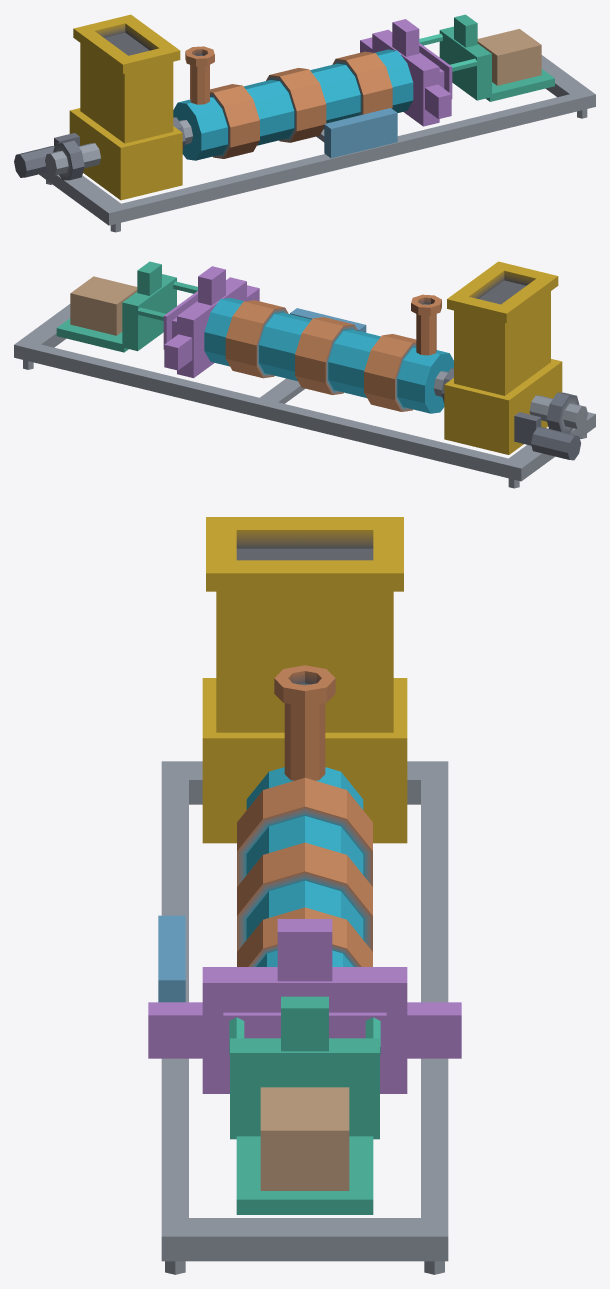
The model's file is stage-2.gltf.
3 renders of one model, top to bottom at view 1: azimuth 30°, elevation 25°; view 2: azimuth 150°, elevation 25°; view 3: azimuth 270°, elevation 25°, orthographic. The views are drawn at different scales.
Visible parts, largest first — view 1: SYS-BCA-STAGE-2; view 2: SYS-BCA-STAGE-2; view 3: SYS-BCA-STAGE-2.
Boxes of the visible parts, box(x1,y1,x2,y2) form: SYS-BCA-STAGE-2: box(14, 14, 595, 232); SYS-BCA-STAGE-2: box(14, 261, 595, 488); SYS-BCA-STAGE-2: box(148, 517, 461, 1274).
Size of the model in its own units: 353 by 101 by 92.
